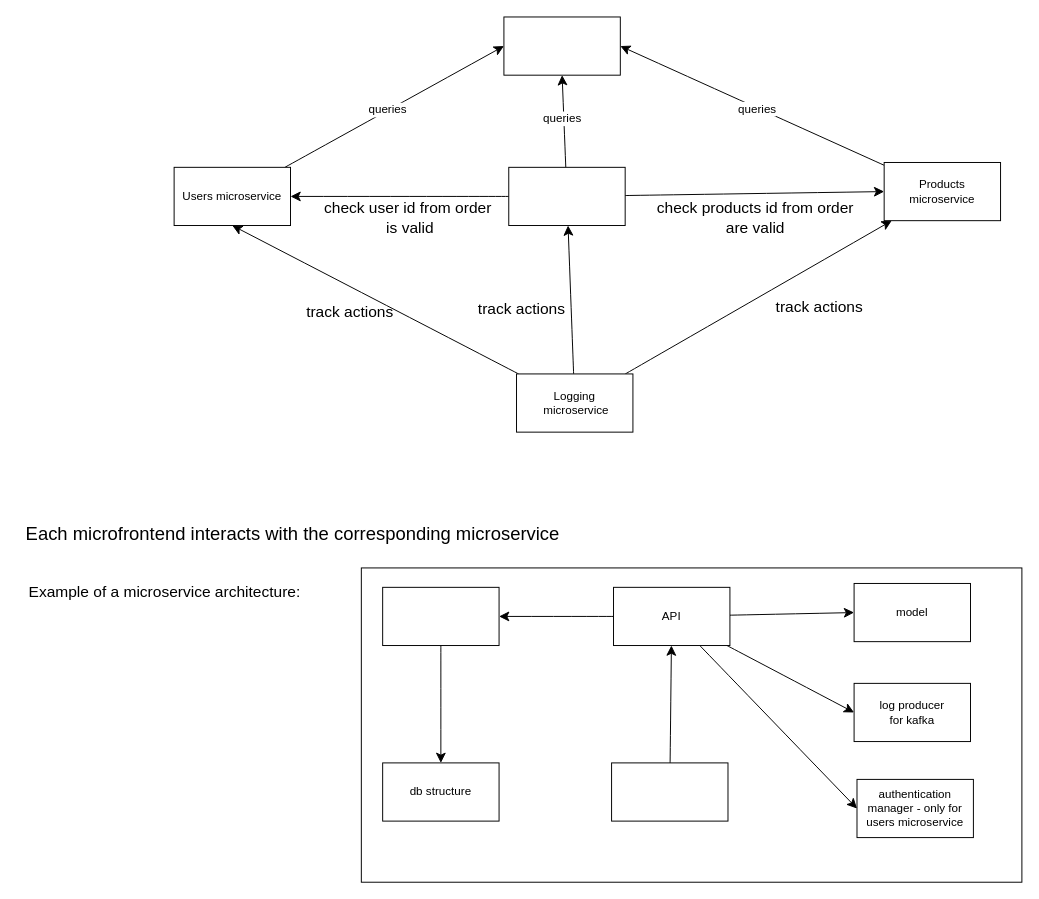
Some shapes in this 1039 by 899 pixel diagram are drawn without their labels. Here are the shapes that lost their labels. From the top down, the box of each, then its label:
(503, 16, 620, 75): DB microservice
(508, 166, 625, 226): Orders microservice
(382, 586, 499, 646): db_manager
(611, 762, 728, 821): main app
